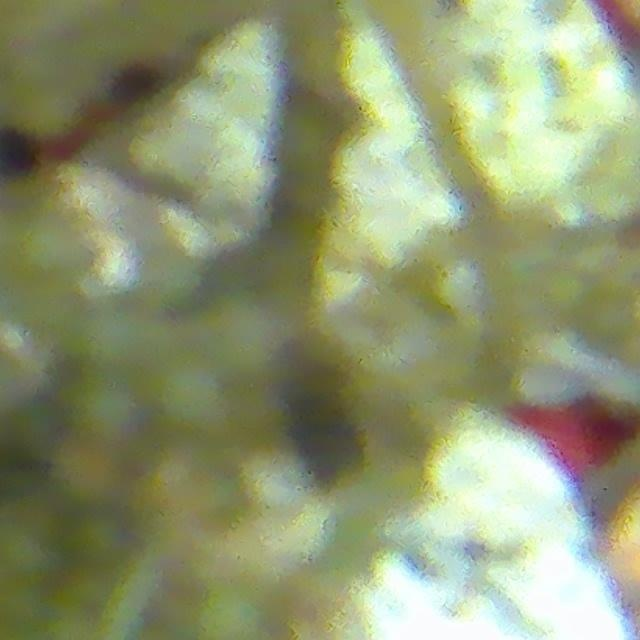SeaGrape: (148, 355, 227, 432), (238, 445, 310, 517), (71, 375, 142, 444), (193, 579, 270, 640)
